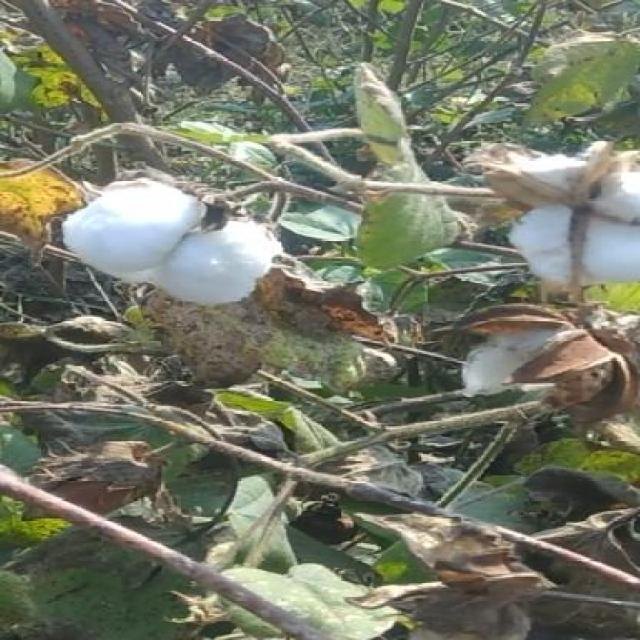cotton_ready: (55, 152, 287, 320)
